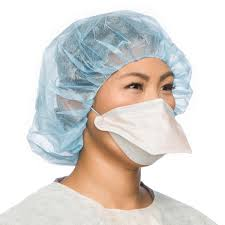mask: (50, 22, 201, 180)
